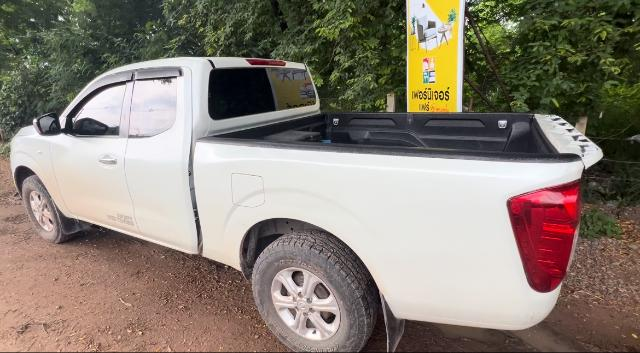pickup-truck: (7, 51, 606, 353)
